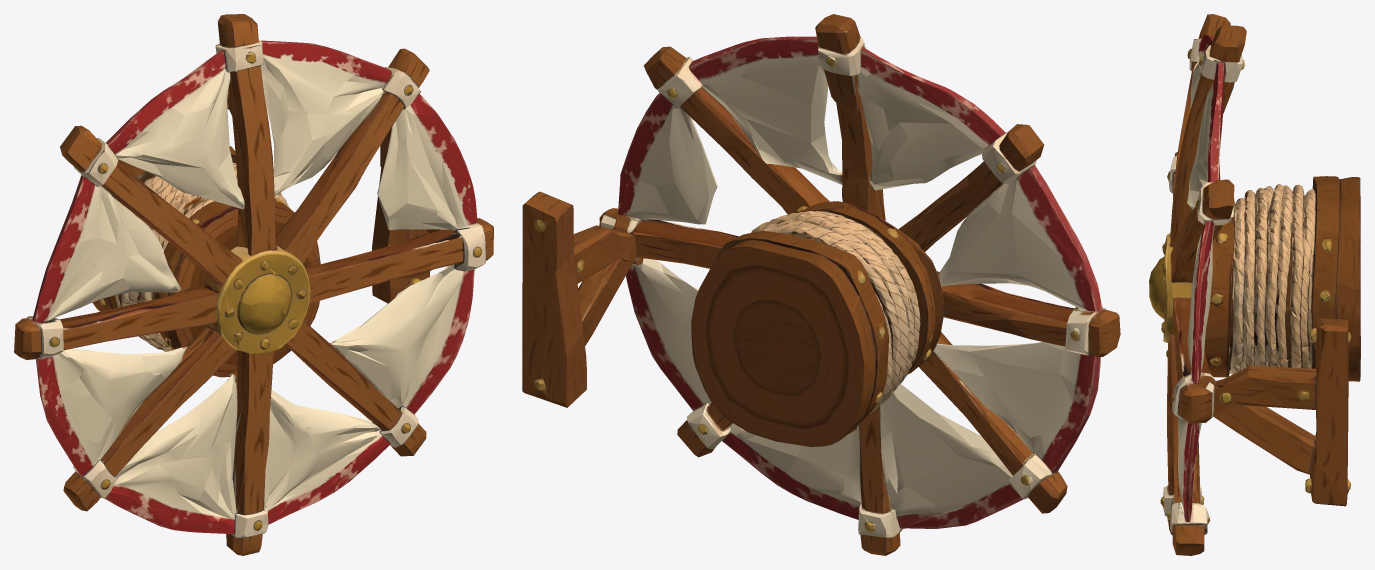
Rendered from wind-wheel.glb.
The picture shows the model from 3 angles, left to right: view 1: azimuth 30°, elevation 25°; view 2: azimuth 150°, elevation 25°; view 3: azimuth 270°, elevation 25°; orthographic projection. The views are drawn at different scales.
Size of the model in its own units: 1.85 by 1.9 by 0.716.
Materials: 1 (1 with a texture image).
